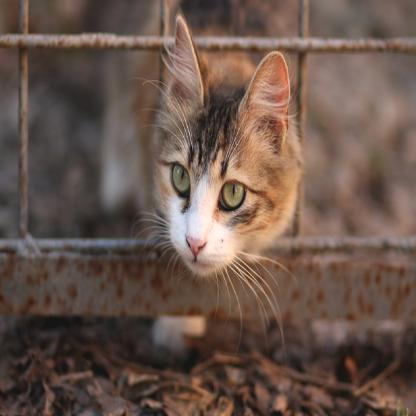cat: (156, 15, 302, 280)
